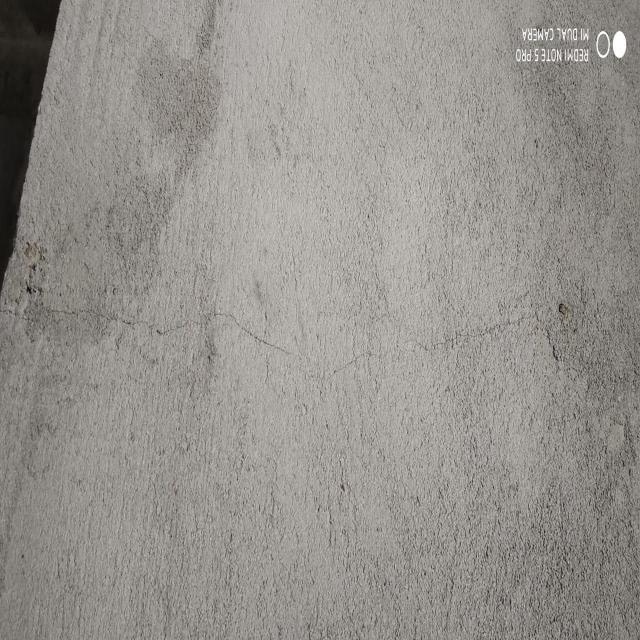Crack: (4, 299, 292, 354), (324, 310, 560, 369)
